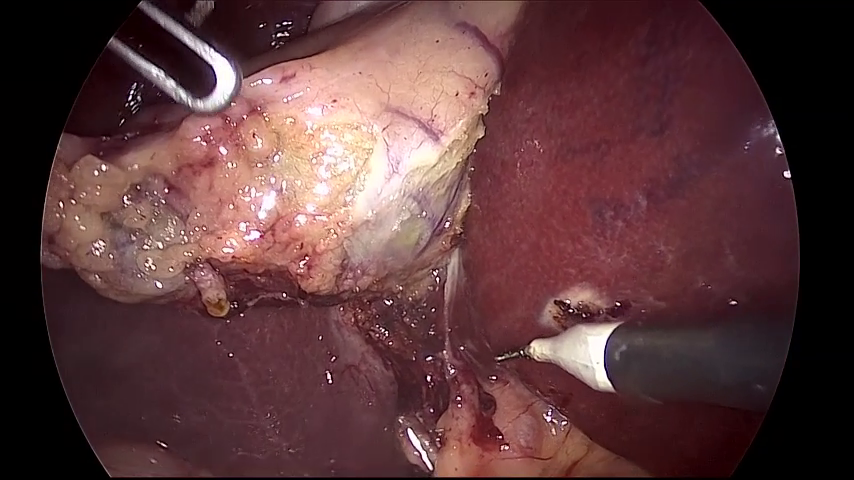grasper: (106, 1, 242, 110)
lhook: (495, 311, 795, 417)
